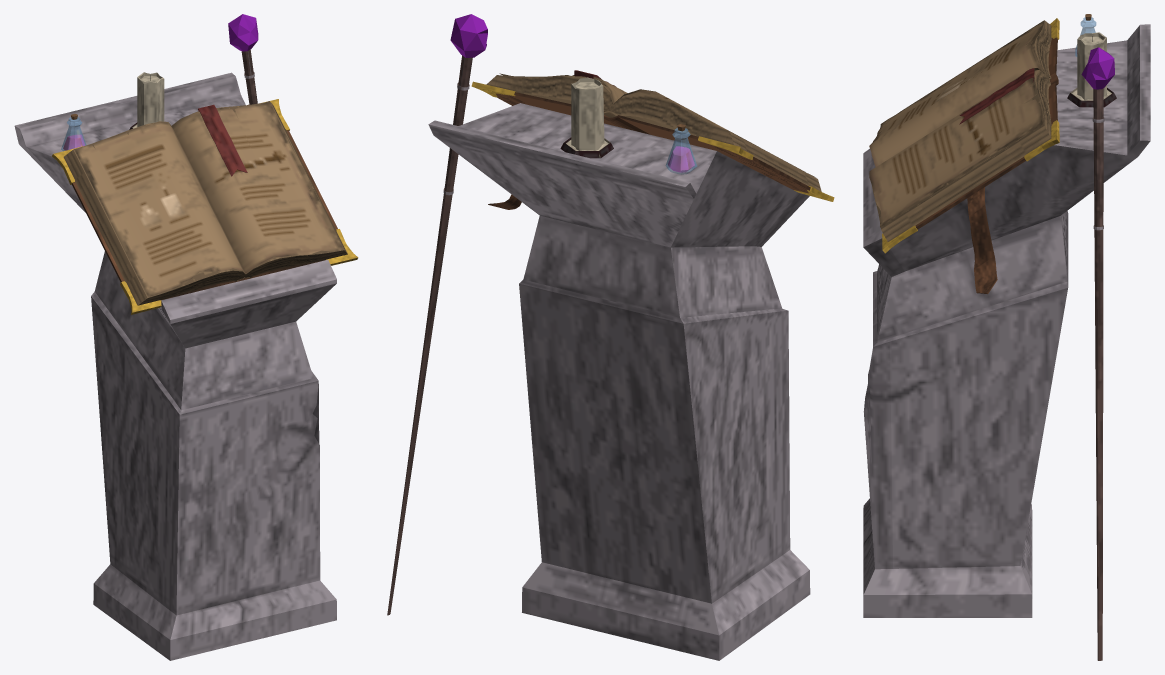
Rendered from Grandmaster.fbx.
3 renders of one model, left to right at view 1: azimuth 30°, elevation 25°; view 2: azimuth 150°, elevation 25°; view 3: azimuth 270°, elevation 25°, orthographic. The views are drawn at different scales.
Visible parts, largest first — view 1: Podium, BookPagesTop, BookPages, BookCover, Staff, Candle, Bookmark, Potion; view 2: Podium, BookPages, Staff, BookCover, Candle, Potion, BookPagesTop; view 3: Podium, BookPagesTop, Staff, BookPages, BookCover, BookBelt, Candle, Bookmark.
Boxes of the visible parts, x1=… form: Podium: x1=14, y1=72, x2=336, y2=660; BookPagesTop: x1=74, y1=101, x2=343, y2=297; BookPages: x1=63, y1=102, x2=347, y2=305; BookCover: x1=52, y1=99, x2=358, y2=314; Staff: x1=228, y1=14, x2=258, y2=104; Candle: x1=129, y1=72, x2=164, y2=129; Bookmark: x1=198, y1=104, x2=247, y2=176; Potion: x1=61, y1=114, x2=86, y2=151; Podium: x1=428, y1=103, x2=810, y2=660; BookPages: x1=486, y1=75, x2=821, y2=191; Staff: x1=387, y1=14, x2=487, y2=615; BookCover: x1=471, y1=81, x2=834, y2=201; Candle: x1=560, y1=77, x2=613, y2=158; Potion: x1=665, y1=124, x2=697, y2=174; BookPagesTop: x1=499, y1=73, x2=815, y2=177; Podium: x1=863, y1=24, x2=1150, y2=617; BookPagesTop: x1=869, y1=20, x2=1044, y2=227; Staff: x1=1081, y1=47, x2=1114, y2=660; BookPages: x1=871, y1=20, x2=1051, y2=241; BookCover: x1=882, y1=18, x2=1059, y2=253; BookBelt: x1=967, y1=187, x2=997, y2=293; Candle: x1=1067, y1=32, x2=1116, y2=107; Bookmark: x1=959, y1=68, x2=1034, y2=124.
Size of the model in its own units: 0.7566 by 1.36 by 0.614.
